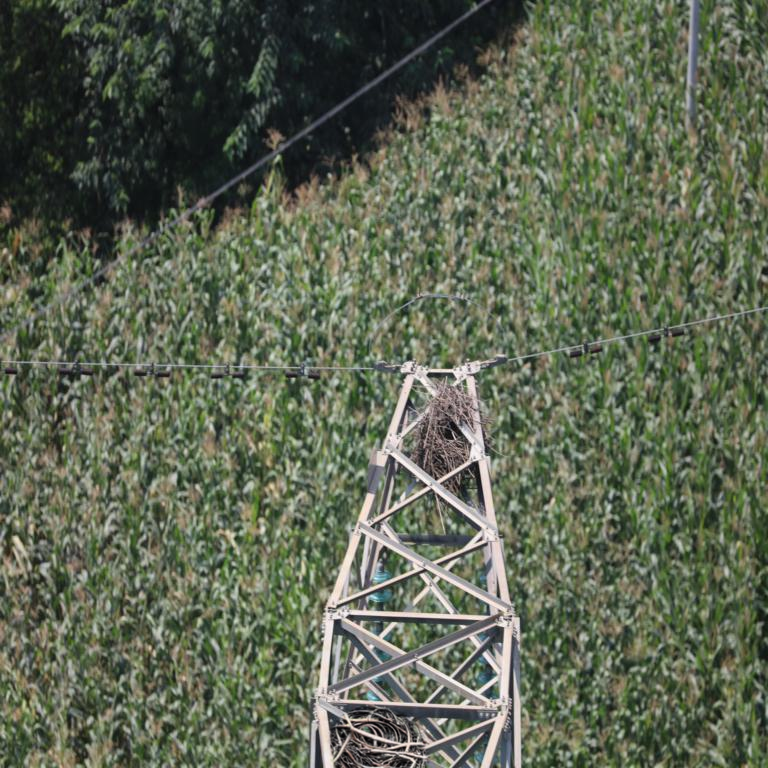nest: (423, 381, 472, 490), (331, 716, 411, 765)
